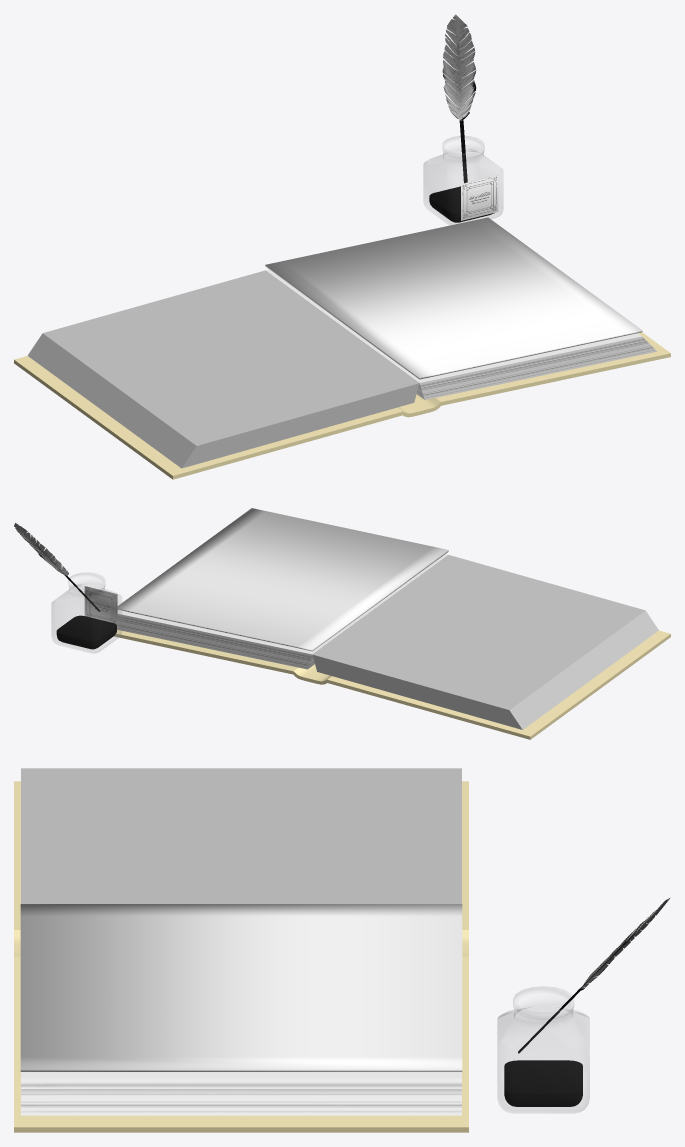
Rendered from susumu 1.fbx.
3 views of the same model, one above another, from view 1: azimuth 30°, elevation 25°; view 2: azimuth 150°, elevation 25°; view 3: azimuth 270°, elevation 25° (orthographic). The views are drawn at different scales.
Visible parts, largest first — view 1: Cube.001, Cube.006, Cube.003, Cube.002, Cube.004, Cube, Plane.002, Cube.007, Cube.005; view 2: Cube.001, Cube.006, Cube.003, Cube.002, Cube, Cube.004, Cube.005, Cube.007, Plane.002; view 3: Cube.006, Cube.001, Cube, Cube.002, Cube.004, Cube.005, Cube.007, Plane.002.
Boxes of the visible parts, <box> form: Cube.001: <box>43,270,418,445</box>; Cube.006: <box>265,217,642,379</box>; Cube.003: <box>27,333,419,468</box>; Cube.002: <box>14,332,670,479</box>; Cube.004: <box>423,136,503,225</box>; Cube: <box>271,274,656,399</box>; Plane.002: <box>442,14,476,183</box>; Cube.007: <box>266,269,641,382</box>; Cube.005: <box>429,186,494,222</box>; Cube.001: <box>313,555,645,709</box>; Cube.006: <box>117,508,448,651</box>; Cube.003: <box>312,610,658,729</box>; Cube.002: <box>114,610,670,739</box>; Cube: <box>117,555,447,669</box>; Cube.004: <box>51,572,121,653</box>; Cube.005: <box>56,615,116,649</box>; Cube.007: <box>117,554,448,654</box>; Plane.002: <box>14,523,100,611</box>; Cube.006: <box>20,904,462,1071</box>; Cube.001: <box>21,768,461,903</box>; Cube: <box>21,1078,461,1115</box>; Cube.002: <box>14,781,468,1132</box>; Cube.004: <box>497,986,589,1113</box>; Cube.005: <box>504,1060,582,1106</box>; Cube.007: <box>21,1072,461,1078</box>; Plane.002: <box>518,898,669,1053</box>.
Size of what is drawn, in the model's own units: 329 by 104 by 252.
